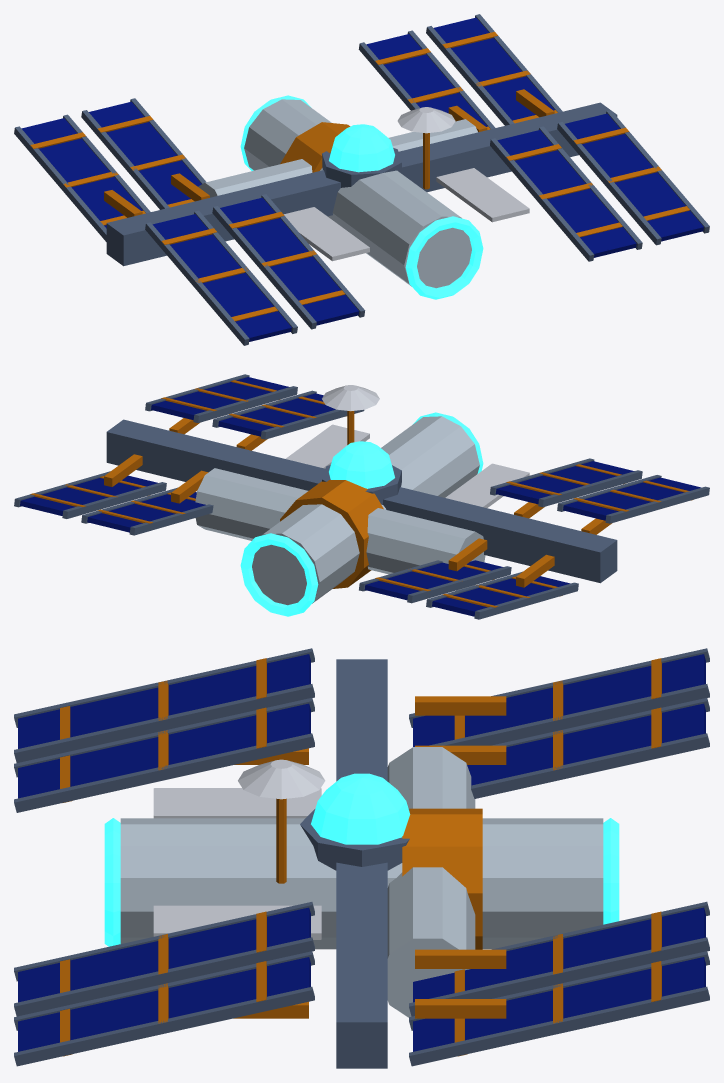
File: iss_orbit_station.glb
The picture shows the model from 3 angles, top to bottom: view 1: azimuth 30°, elevation 25°; view 2: azimuth 150°, elevation 25°; view 3: azimuth 270°, elevation 25°; orthographic projection. The views are drawn at different scales.
Visible parts, largest first — view 1: ISSolarArray, ISSOrbitStation; view 2: ISSOrbitStation, ISSolarArray; view 3: ISSolarArray, ISSOrbitStation.
Part boxes in pixels (bbox=[...]): ISSolarArray: bbox=[14, 14, 709, 345]; ISSOrbitStation: bbox=[106, 95, 617, 299]; ISSOrbitStation: bbox=[106, 385, 617, 616]; ISSolarArray: bbox=[14, 374, 709, 619]; ISSolarArray: bbox=[14, 648, 709, 1066]; ISSOrbitStation: bbox=[104, 659, 619, 1068].
Bounding box in the file's own units: 2.35 × 0.655 × 1.9.
